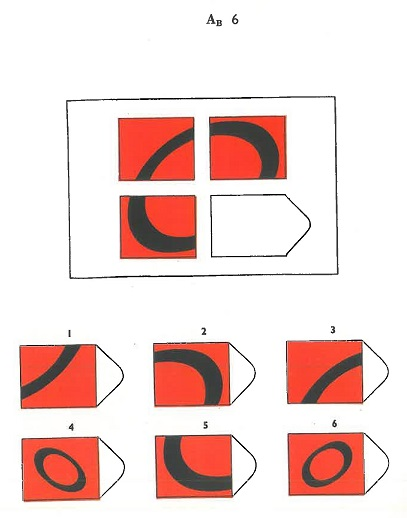Array 1: (14, 325, 127, 411)
Array 2: (149, 324, 260, 411)
Array 3: (281, 323, 391, 408)
Array 4: (18, 417, 128, 506)
Array 5: (151, 415, 262, 503)
Array 6: (283, 414, 393, 500)
Matrix 1: (113, 112, 200, 185)
Matrix 2: (205, 112, 292, 184)
Matrix 3: (115, 192, 202, 265)
Matrix Unknown: (206, 190, 313, 262)
